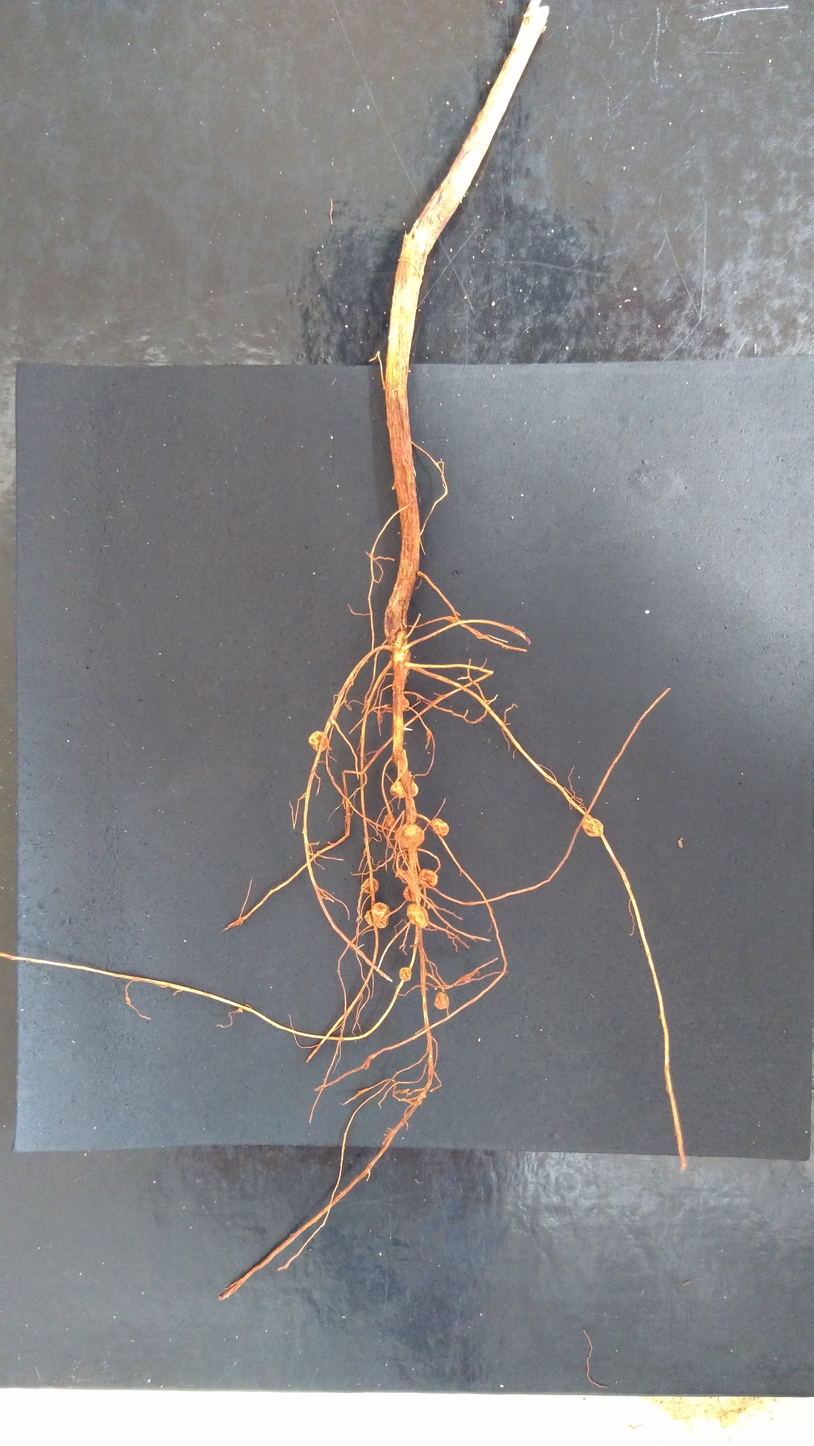nodule: (394, 822, 426, 849), (404, 903, 431, 931), (388, 780, 420, 799), (370, 900, 390, 929), (581, 814, 605, 838), (307, 729, 330, 754), (418, 866, 439, 889), (430, 816, 450, 839), (359, 876, 380, 896), (432, 990, 450, 1011), (402, 884, 421, 903), (397, 963, 413, 984), (363, 907, 375, 929)
